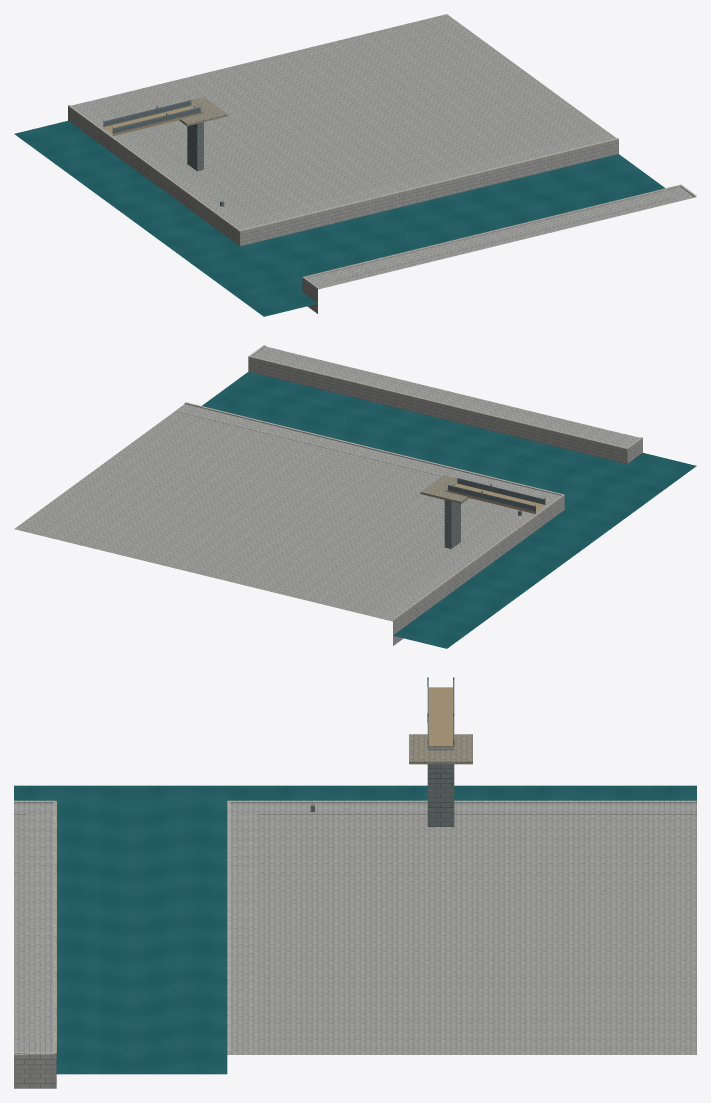
Rendered from canal-1-1.glb.
The picture shows the model from 3 angles, top to bottom: view 1: azimuth 30°, elevation 25°; view 2: azimuth 150°, elevation 25°; view 3: azimuth 270°, elevation 25°; orthographic projection. The views are drawn at different scales.
Visible parts, largest first — view 1: canal-1-1; view 2: canal-1-1; view 3: canal-1-1.
Boxes of the visible parts, x1,y1,x2,y2 form: canal-1-1: [14, 14, 696, 316]; canal-1-1: [14, 345, 696, 648]; canal-1-1: [14, 677, 696, 1088].
Bounding box in the file's own units: 128 × 25.4 × 128.
10 materials, 10 textured.
